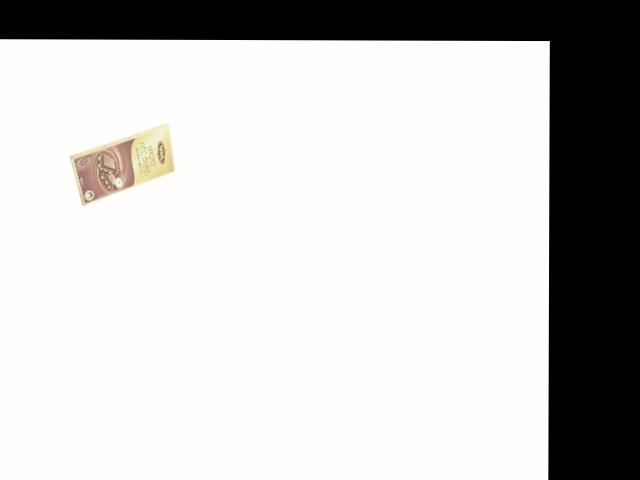chocolate: (59, 119, 175, 206)
